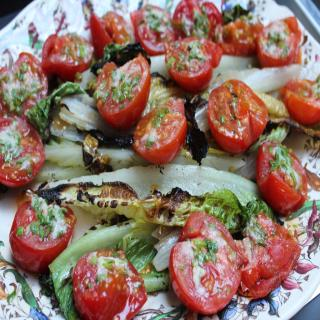tomato: (169, 212, 240, 316), (236, 209, 301, 297), (72, 248, 146, 319), (8, 195, 74, 272), (208, 78, 269, 153), (94, 53, 151, 127), (257, 138, 307, 216), (134, 98, 188, 165), (166, 34, 221, 92), (0, 50, 49, 114), (0, 116, 45, 184), (42, 33, 94, 83), (256, 14, 302, 70), (130, 6, 174, 55), (170, 0, 222, 40), (213, 16, 261, 59), (88, 11, 130, 59), (280, 77, 320, 126)
